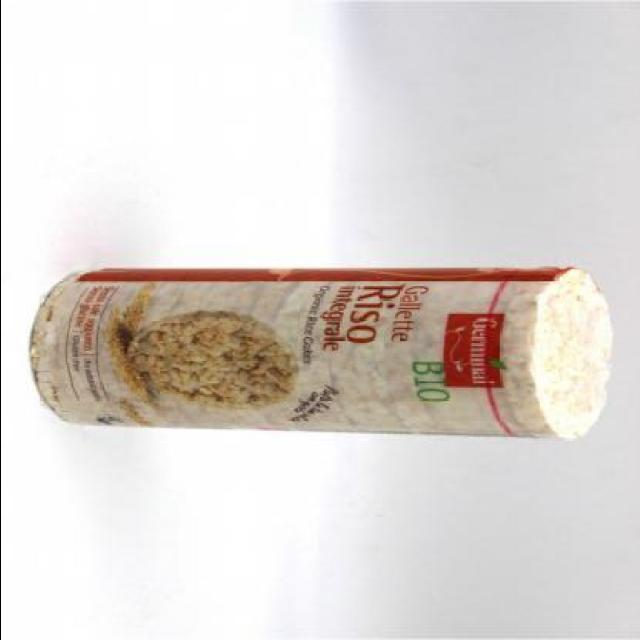Gallette di riso: (26, 266, 608, 442)
